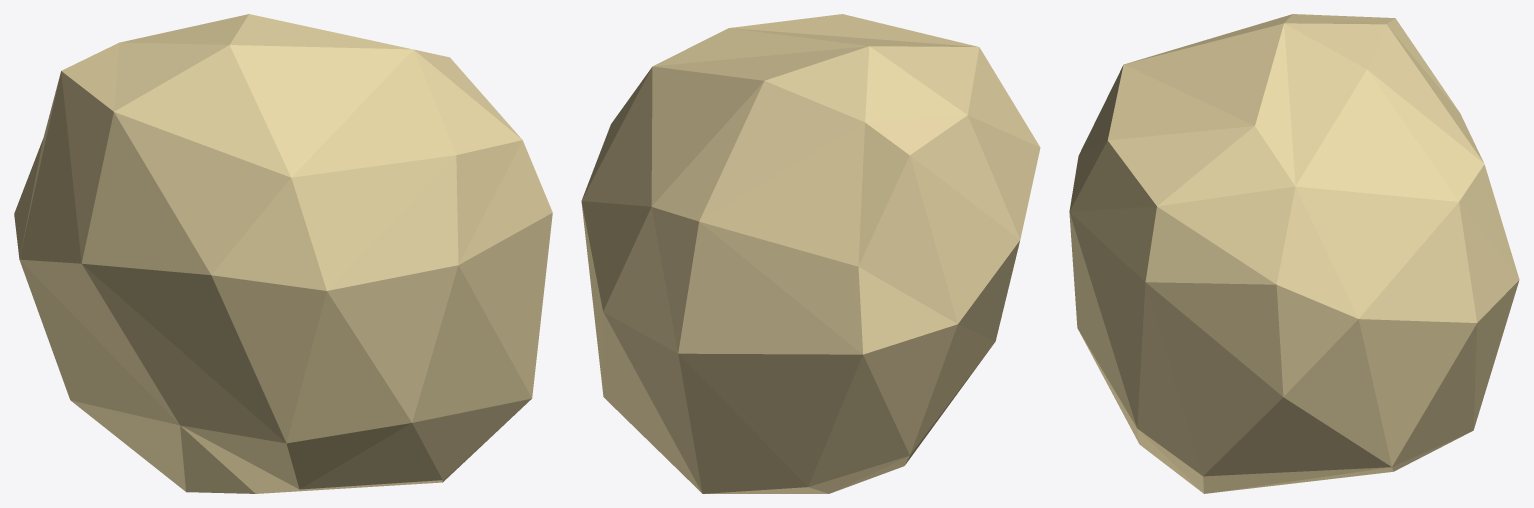
File: Rock (5).fbx
3 renders of one model, left to right at view 1: azimuth 30°, elevation 25°; view 2: azimuth 150°, elevation 25°; view 3: azimuth 270°, elevation 25°, orthographic. The views are drawn at different scales.
Parts seen in each view (by area): view 1: Asteroid4; view 2: Asteroid4; view 3: Asteroid4.
Boxes of the visible parts, bbox=[...] form: Asteroid4: bbox=[14, 14, 552, 493]; Asteroid4: bbox=[581, 14, 1040, 493]; Asteroid4: bbox=[1069, 14, 1519, 493].
Bounding box in the file's own units: 211 × 209 × 210.
